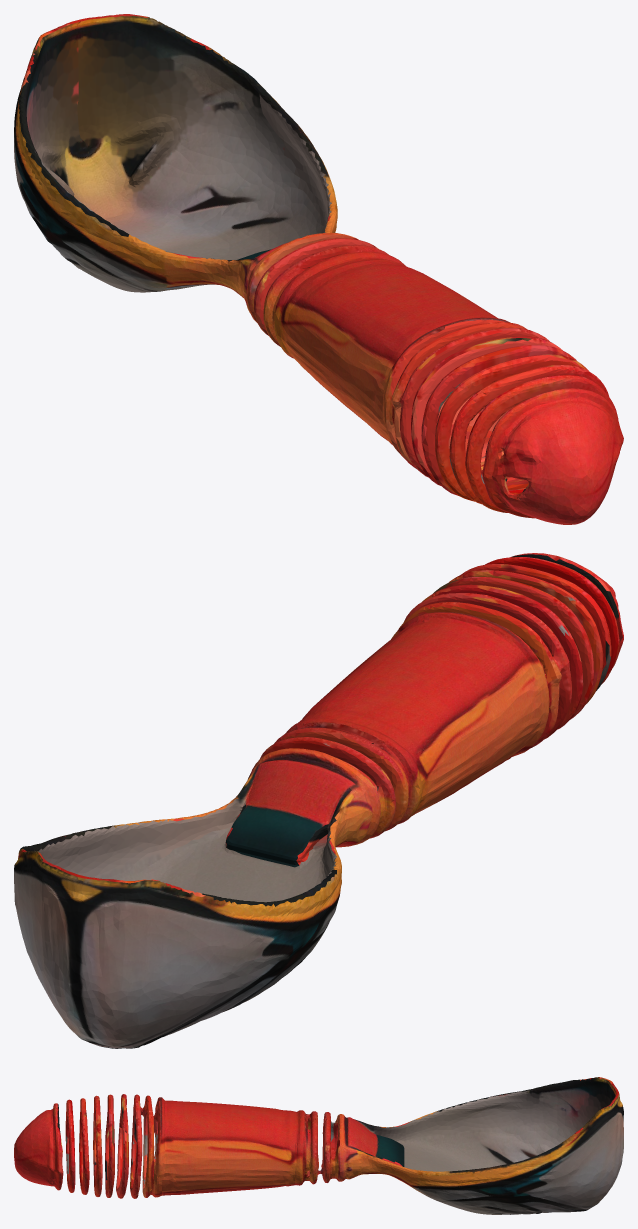
The model's file is image_0000_segmented.glb.
The picture shows the model from 3 angles, top to bottom: view 1: azimuth 30°, elevation 25°; view 2: azimuth 150°, elevation 25°; view 3: azimuth 270°, elevation 25°; orthographic projection. The views are drawn at different scales.
Visible parts, largest first — view 1: tmp1ks0ee9m.ply; view 2: tmp1ks0ee9m.ply; view 3: tmp1ks0ee9m.ply.
Boxes of the visible parts, x1,y1,x2,y2 form: tmp1ks0ee9m.ply: (14, 14, 623, 524); tmp1ks0ee9m.ply: (14, 553, 623, 1048); tmp1ks0ee9m.ply: (14, 1077, 623, 1214).
Bounding box in the file's own units: 0.5741 × 0.4077 × 2.
1 material, 1 textured.
